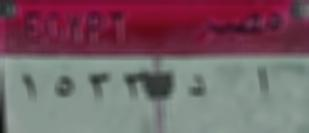1: (21, 69, 41, 107)
3: (84, 63, 112, 107), (119, 64, 148, 103)
5: (48, 70, 78, 105)
alif: (248, 63, 275, 104)
daal: (186, 70, 211, 107)
